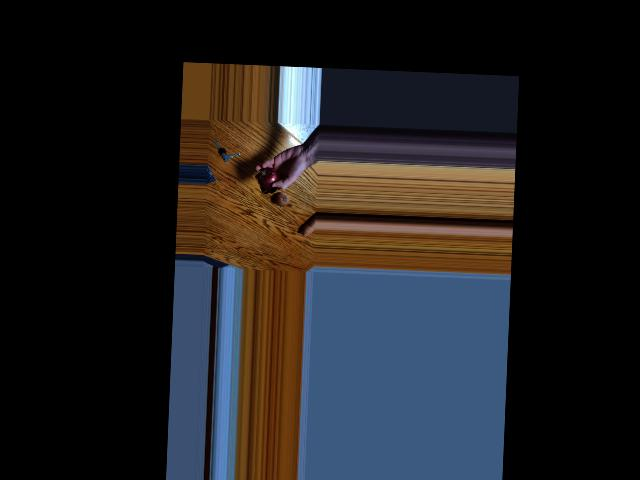onion: (274, 185, 290, 208)
